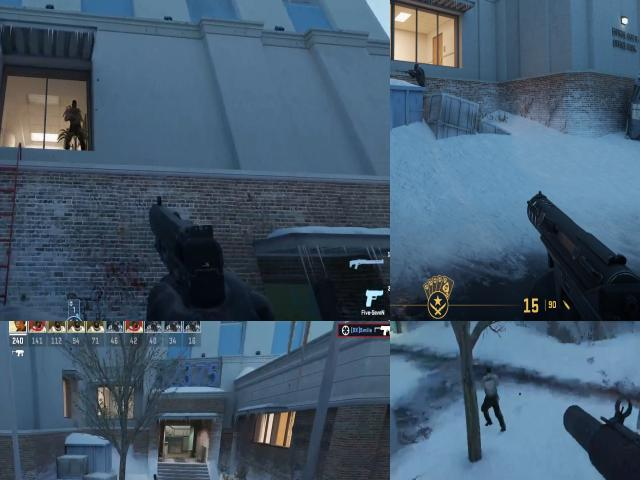CT: (412, 60, 427, 89)
CT-Head: (414, 63, 419, 71)
T: (480, 364, 499, 404), (66, 100, 84, 132), (150, 471, 163, 480)
T-Head: (71, 100, 79, 114), (485, 368, 495, 378), (153, 473, 161, 480)
